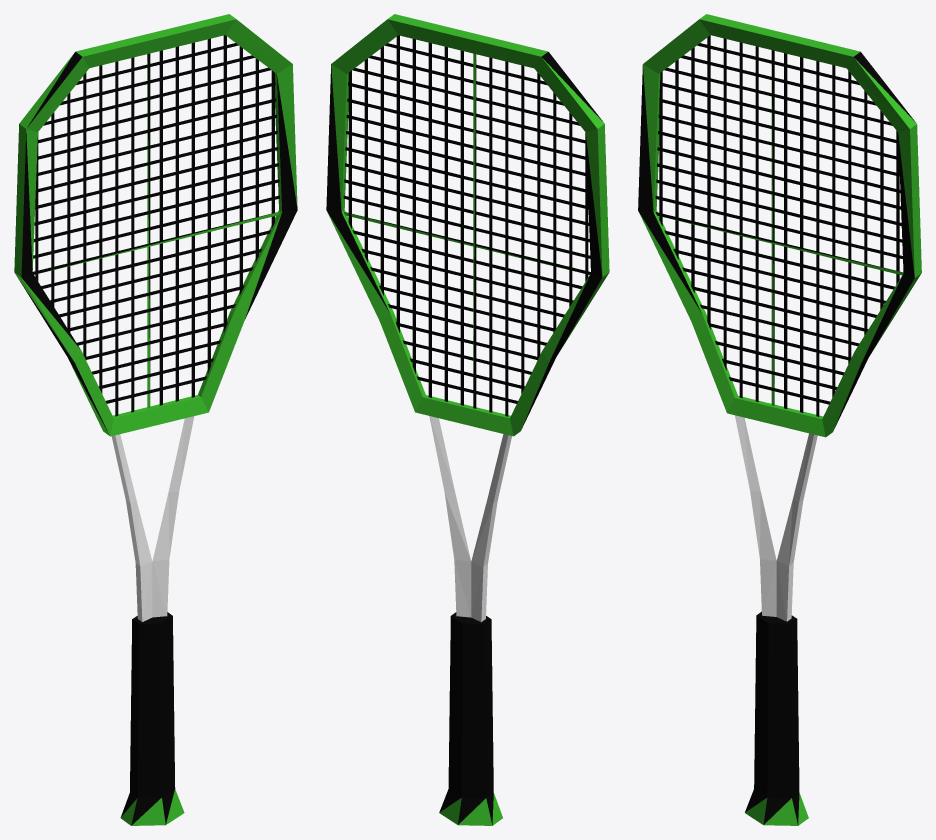
File: Squash_Racket_3.fbx
3 renders of one model, left to right at view 1: azimuth 30°, elevation 25°; view 2: azimuth 150°, elevation 25°; view 3: azimuth 330°, elevation 25°, orthographic.
Visible parts, largest first — view 1: Squash_Racket_3; view 2: Squash_Racket_3; view 3: Squash_Racket_3.
Part boxes in pixels (bbox=[...]): Squash_Racket_3: bbox=[14, 14, 297, 825]; Squash_Racket_3: bbox=[326, 14, 609, 825]; Squash_Racket_3: bbox=[638, 14, 921, 825].
Bounding box in the file's own units: 23.21 × 62.6 × 3.86.
